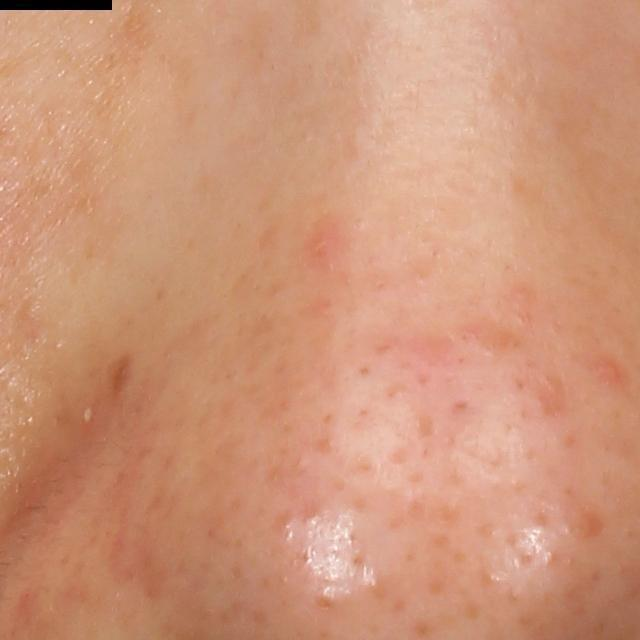papule: (304, 222, 339, 265), (587, 353, 627, 386)
